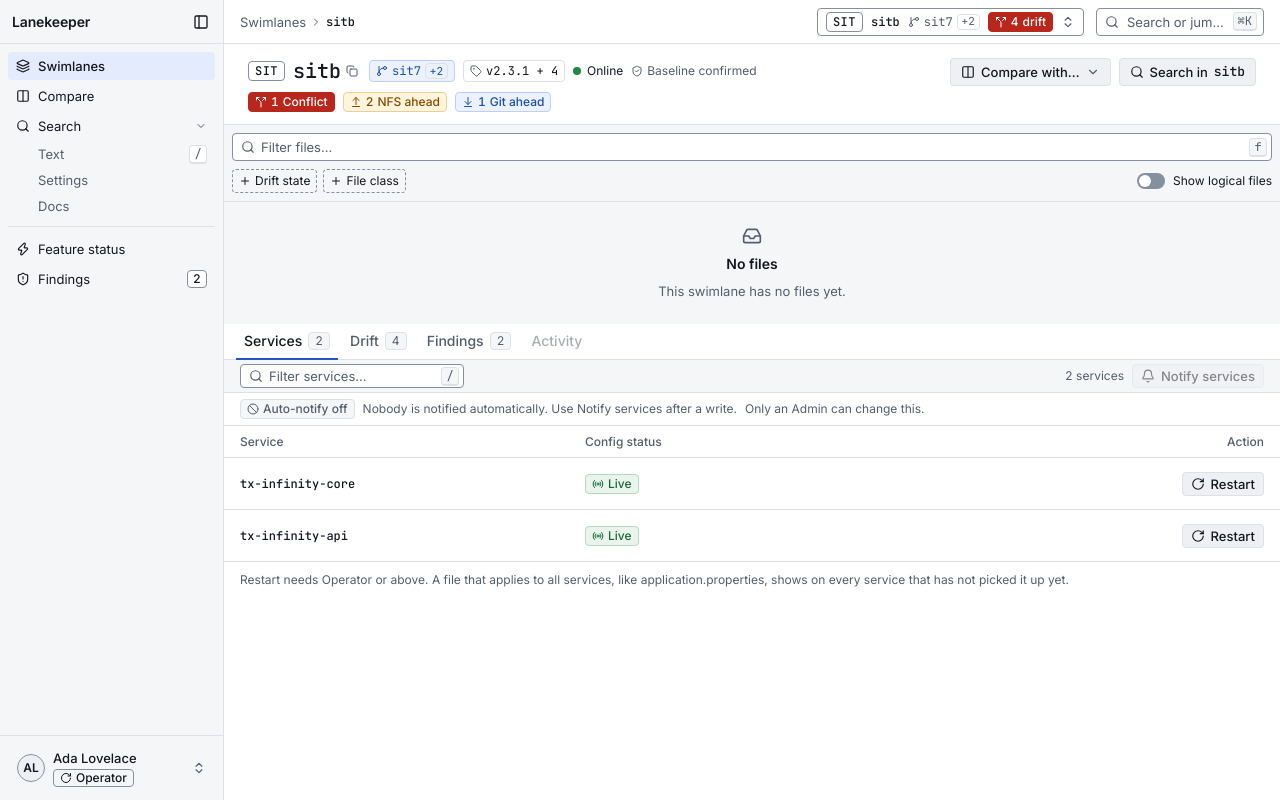
Scenario: the tabs › leaves the Activity tab in place for anyone else, disabled, with the role it needs
Click the tab "Activity".
click(557, 342)  # box [523, 324, 590, 360]
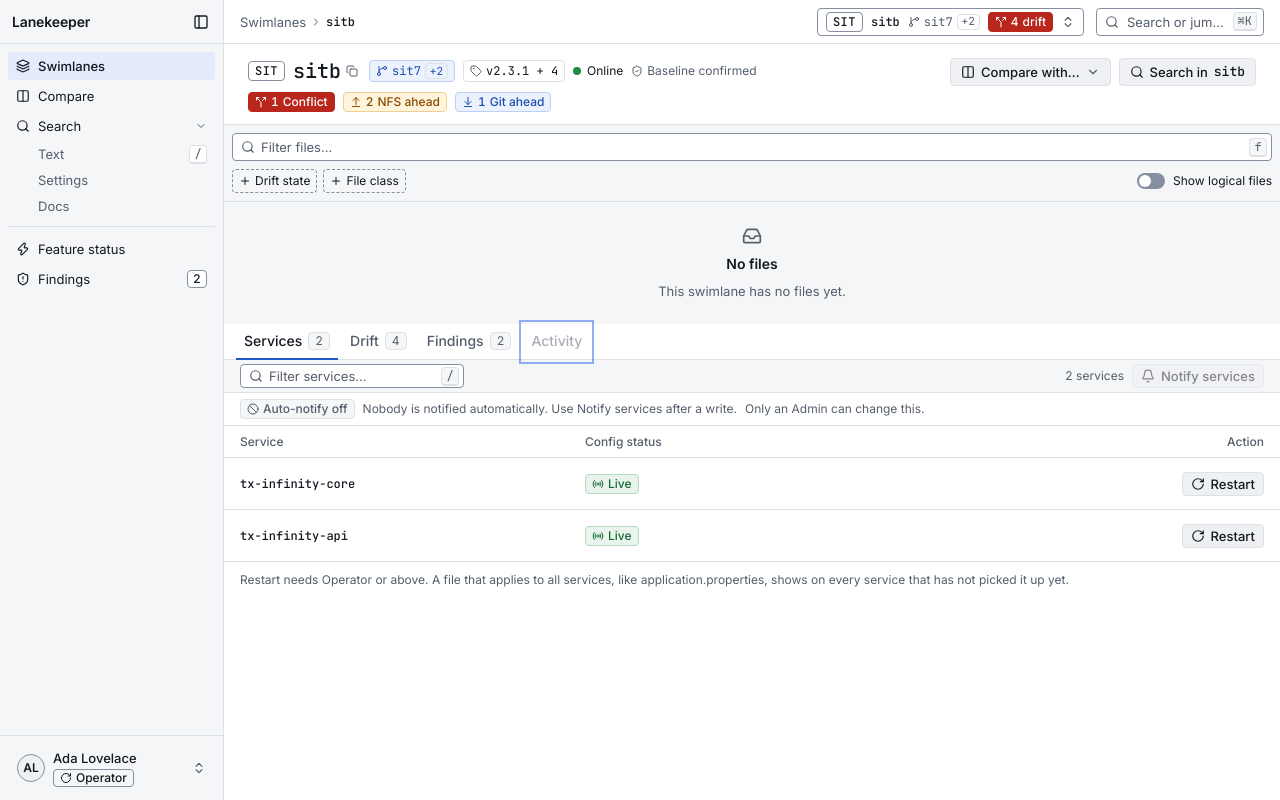
Hover over the tab "Activity".
mouse_move(557, 342)  # box [523, 324, 590, 360]
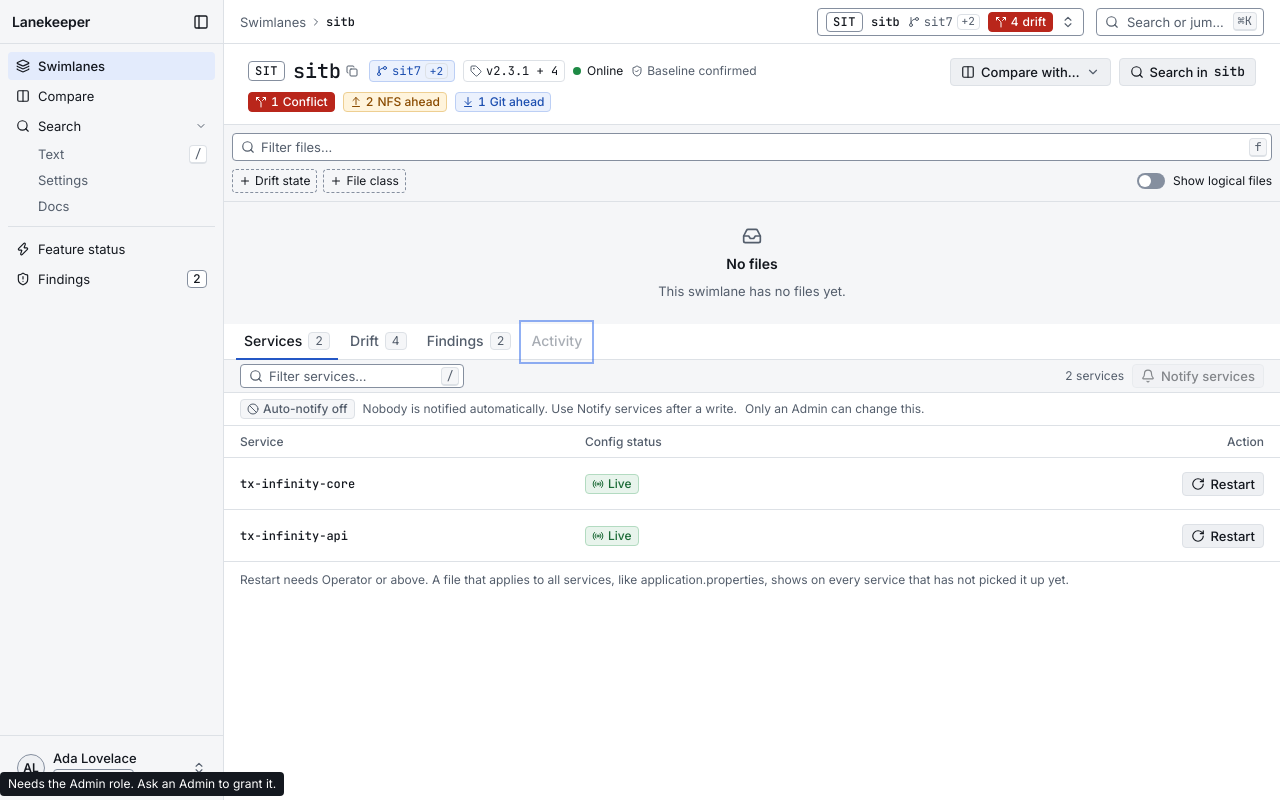
expect the tooltip "Needs the Admin role. Ask an Admin to grant it." is shown: met, box [0, 772, 284, 796]
